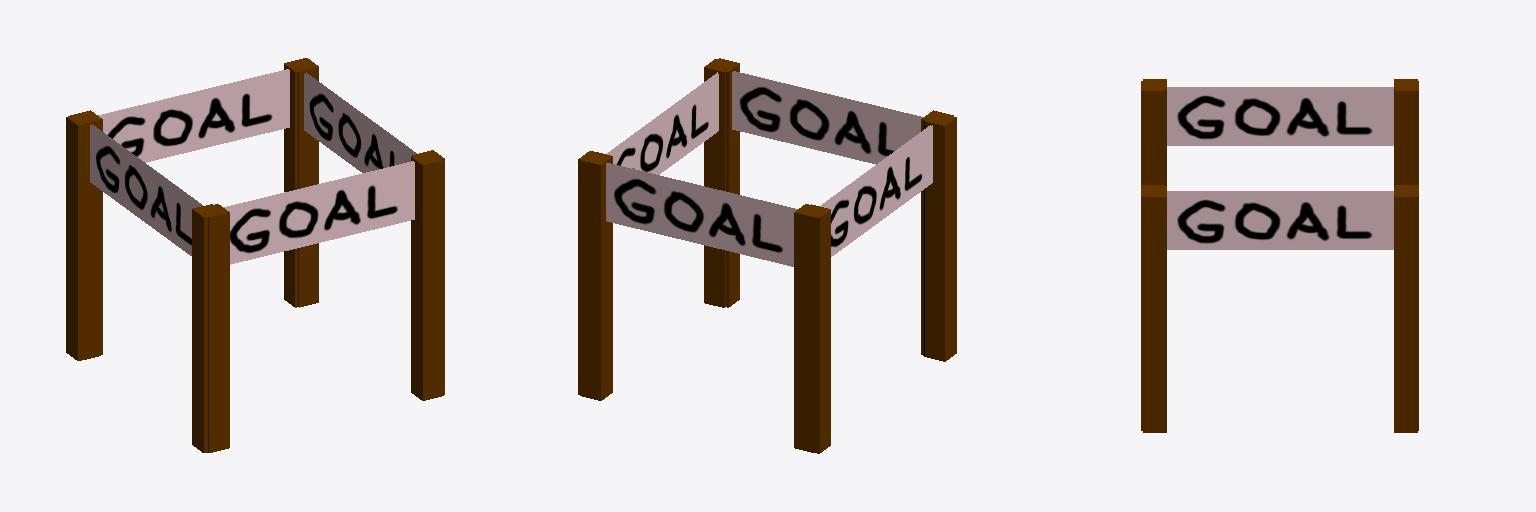
The picture shows the model from 3 angles: view 1: azimuth 30°, elevation 25°; view 2: azimuth 150°, elevation 25°; view 3: azimuth 270°, elevation 25°; orthographic projection.
Parts seen in each view (by area): view 1: Cube.001_Cube.003; view 2: Cube.001_Cube.003; view 3: Cube.001_Cube.003.
Boxes of the visible parts, <box> form: Cube.001_Cube.003: <box>66,58,444,452</box>; Cube.001_Cube.003: <box>578,58,956,453</box>; Cube.001_Cube.003: <box>1141,79,1418,432</box>.
Bounding box in the file's own units: 4.43 × 4.14 × 4.43.
1 materials, 1 textured.